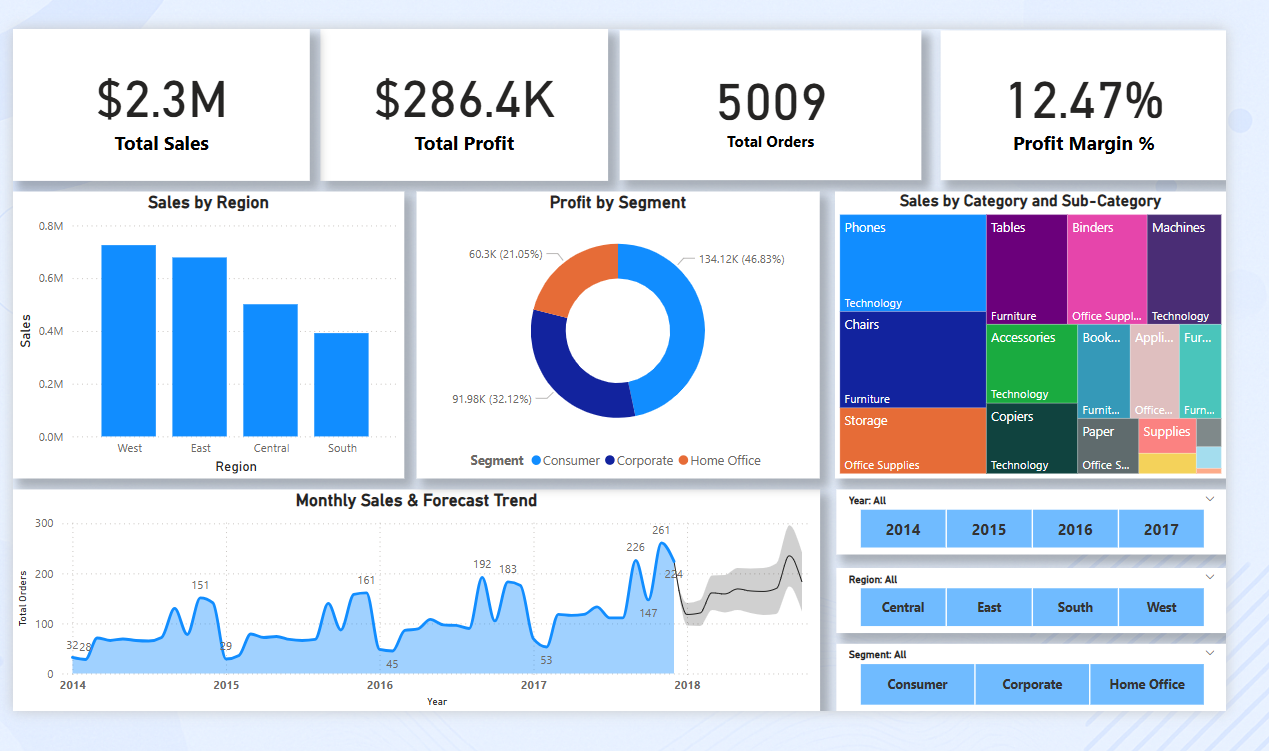

The dashboard page shown, as its layout file describes it:
{"tool":"powerbi","page":{"name":"Page 1","canvas":[1280,720],"ordinal":0},"visuals":[{"type":"card","fields":{"Values":["Sample - Superstore.Total Profit"]},"box":[325,0,303.3,160],"z":0},{"type":"card","fields":{"Values":["Sample - Superstore.Total Orders"]},"box":[640,1.7,318.3,158.3],"z":1000},{"type":"card","fields":{"Values":["Sample - Superstore.Total Sales"]},"box":[0,0,313.3,160],"z":2000},{"type":"card","fields":{"Values":["Sample - Superstore.Profit Margin %"]},"box":[978.3,1.7,301.7,158.3],"z":3000},{"type":"columnChart","title":"Sales by Region","fields":{"Y":["Sum(Sample - Superstore.Sales)"],"Category":["Sample - Superstore.Region"]},"box":[0,171.2,412.5,302.5],"z":4000},{"type":"lineChart","title":"Monthly Sales & Forecast Trend","fields":{"Category":["Sample - Superstore.Order Date.Variation.Date Hierarchy.Year","Sample - Superstore.Order Date.Variation.Date Hierarchy.Month"],"Y":["Sample - Superstore.Total Orders"]},"box":[0,485,851.2,235],"z":5000},{"type":"donutChart","title":"Profit by Segment","fields":{"Y":["Sum(Sample - Superstore.Profit)"],"Category":["Sample - Superstore.Segment"]},"box":[426.2,171.2,425,302.5],"z":6000},{"type":"treemap","title":"Sales by Sub-Category","fields":{"Values":["Sum(Sample - Superstore.Sales)"],"Group":["Sample - Superstore.Sub-Category"]},"box":[867.5,171.2,412.5,302.5],"z":7000},{"type":"slicer","fields":{"Values":["Sample - Superstore.Order Date.Variation.Date Hierarchy.Year"]},"box":[868.6,485.7,411.4,68.6],"z":8000},{"type":"slicer","fields":{"Values":["Sample - Superstore.Region"]},"box":[868.6,568.6,411.4,68.6],"z":9000},{"type":"slicer","fields":{"Values":["Sample - Superstore.Segment"]},"box":[868.6,648.6,411.4,71.4],"z":10000}]}

Visuals, with their boxes in screenshot pixels (x1, y1, x2, y2):
card - Sample - Superstore.Total Profit: locate(320, 26, 606, 177)
card - Sample - Superstore.Total Orders: locate(617, 28, 917, 177)
card - Sample - Superstore.Total Sales: locate(13, 26, 309, 177)
card - Sample - Superstore.Profit Margin %: locate(936, 28, 1220, 177)
"Sales by Region" columnChart: locate(13, 188, 402, 473)
"Monthly Sales & Forecast Trend" lineChart: locate(13, 484, 816, 705)
"Profit by Segment" donutChart: locate(415, 188, 816, 473)
"Sales by Sub-Category" treemap: locate(831, 188, 1220, 473)
slicer - Sample - Superstore.Order Date.Variation.Date Hierarchy.Year: locate(832, 484, 1220, 549)
slicer - Sample - Superstore.Region: locate(832, 563, 1220, 627)
slicer - Sample - Superstore.Segment: locate(832, 638, 1220, 705)
